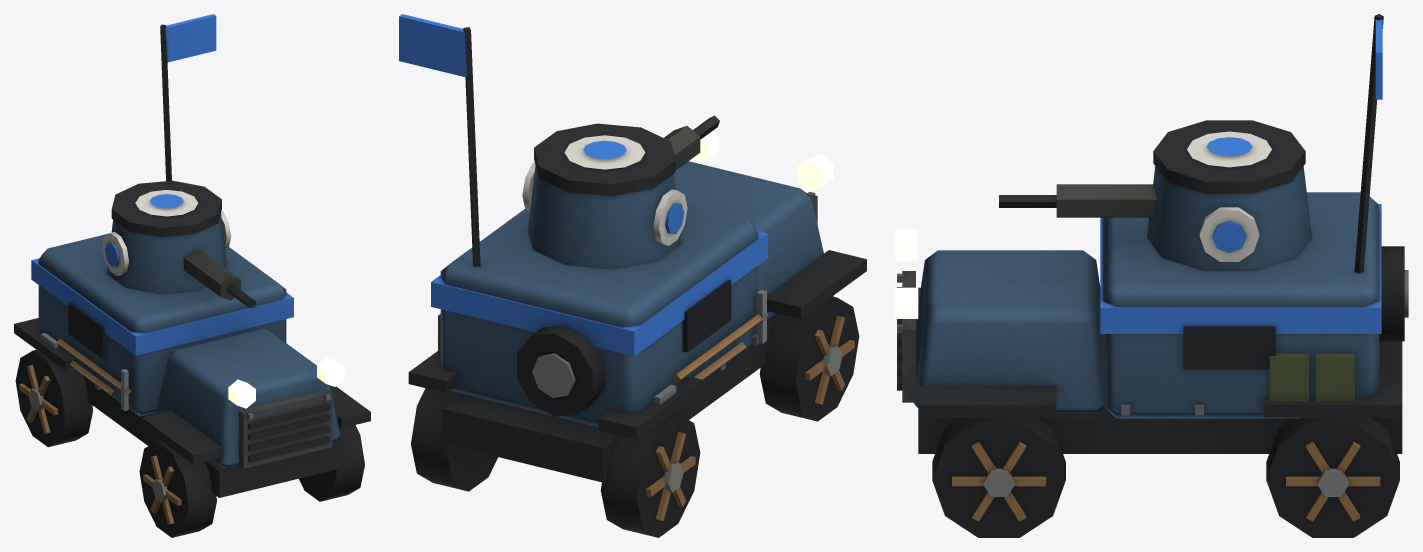
The model's file is assault_dl5_blue.glb.
The picture shows the model from 3 angles, left to right: view 1: azimuth 30°, elevation 25°; view 2: azimuth 150°, elevation 25°; view 3: azimuth 270°, elevation 25°; orthographic projection. The views are drawn at different scales.
Visible parts, largest first — view 1: assault_dl5_blue; view 2: assault_dl5_blue; view 3: assault_dl5_blue.
Part boxes in pixels (box(x1,y1,x2,y2)): assault_dl5_blue: box(14, 14, 370, 537); assault_dl5_blue: box(399, 14, 866, 537); assault_dl5_blue: box(895, 14, 1408, 537).
Size of the model in its own units: 0.267 by 0.4774 by 0.4455.
2 materials, 1 textured.
